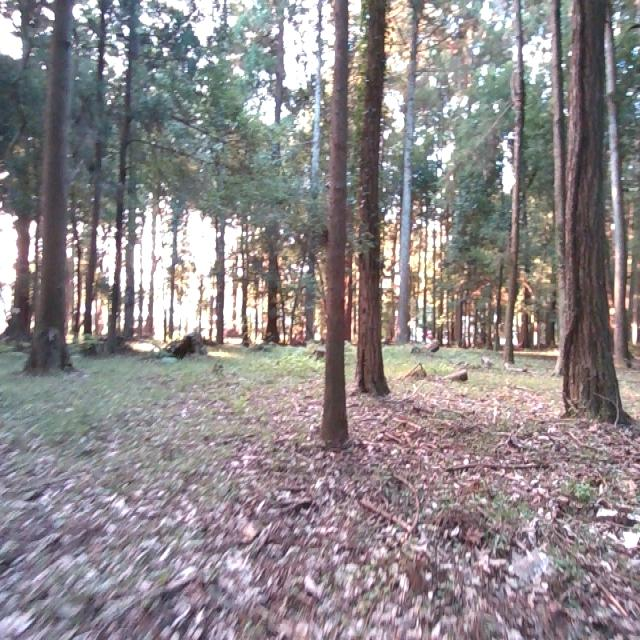tree: (555, 0, 619, 424), (22, 0, 76, 383), (351, 0, 390, 402), (318, 0, 352, 437), (102, 0, 135, 344), (5, 0, 32, 343), (260, 0, 286, 352), (503, 0, 527, 356), (83, 0, 108, 336), (399, 0, 419, 348), (210, 0, 230, 347)
